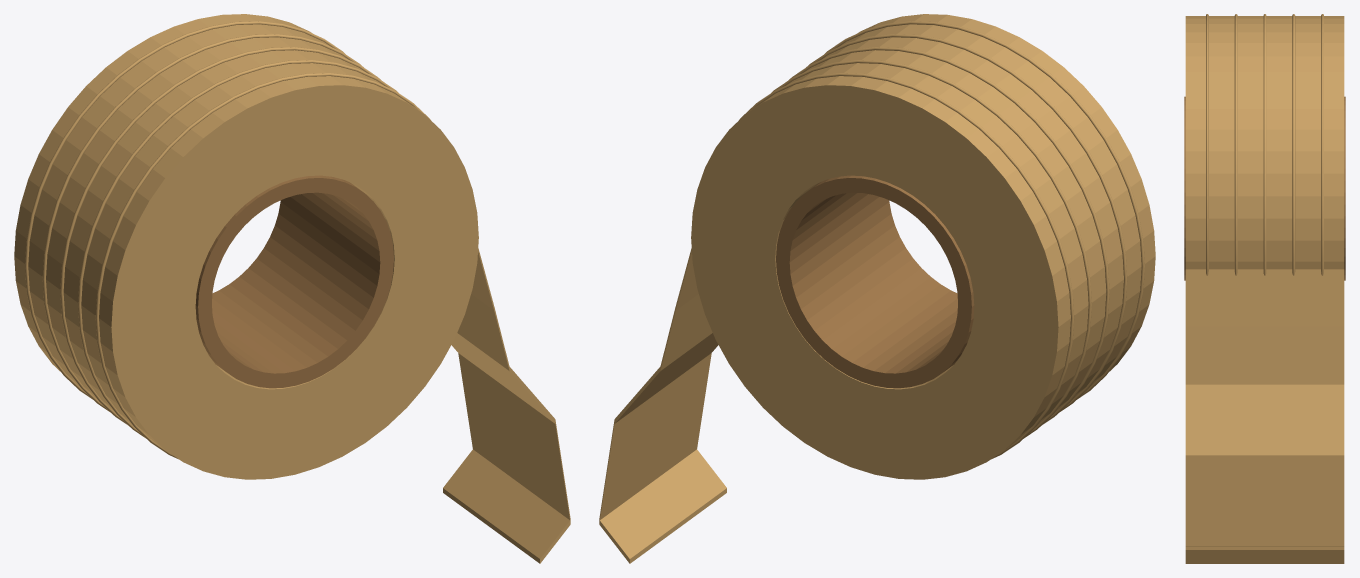
The model's file is PackingTape.fbx.
3 renders of one model, left to right at view 1: azimuth 30°, elevation 25°; view 2: azimuth 150°, elevation 25°; view 3: azimuth 270°, elevation 25°, orthographic. The views are drawn at different scales.
Parts seen in each view (by area): view 1: PackingTape_Mesh; view 2: PackingTape_Mesh; view 3: PackingTape_Mesh.
Boxes of the visible parts, <box> form: PackingTape_Mesh: <box>14,14,570,563</box>; PackingTape_Mesh: <box>599,14,1155,563</box>; PackingTape_Mesh: <box>1184,14,1345,563</box>.
Size of the model in its own units: 0.3015 by 0.3345 by 0.112.
